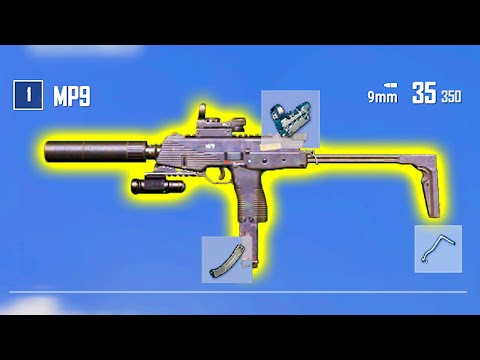35: (411, 81, 438, 105)
350: (441, 89, 462, 103)
9mm: (367, 89, 398, 104)
MP9: (52, 84, 92, 108)
